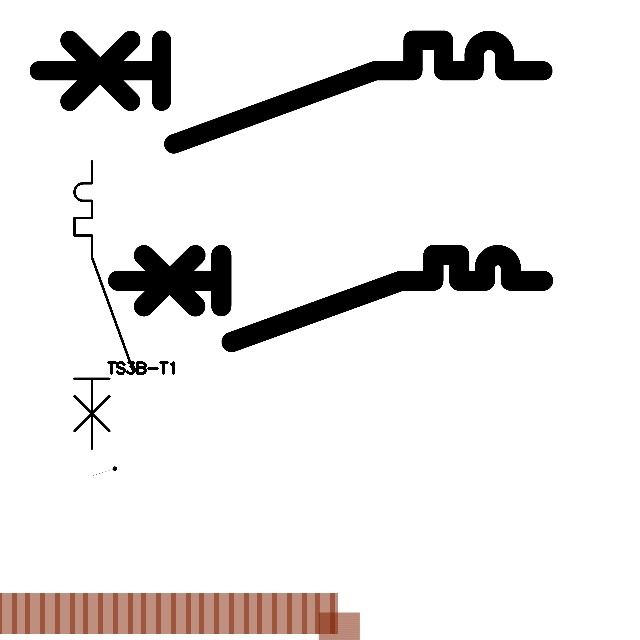interruptor_termomagnetico: (26, 27, 556, 157), (107, 244, 554, 353), (67, 154, 141, 456)
